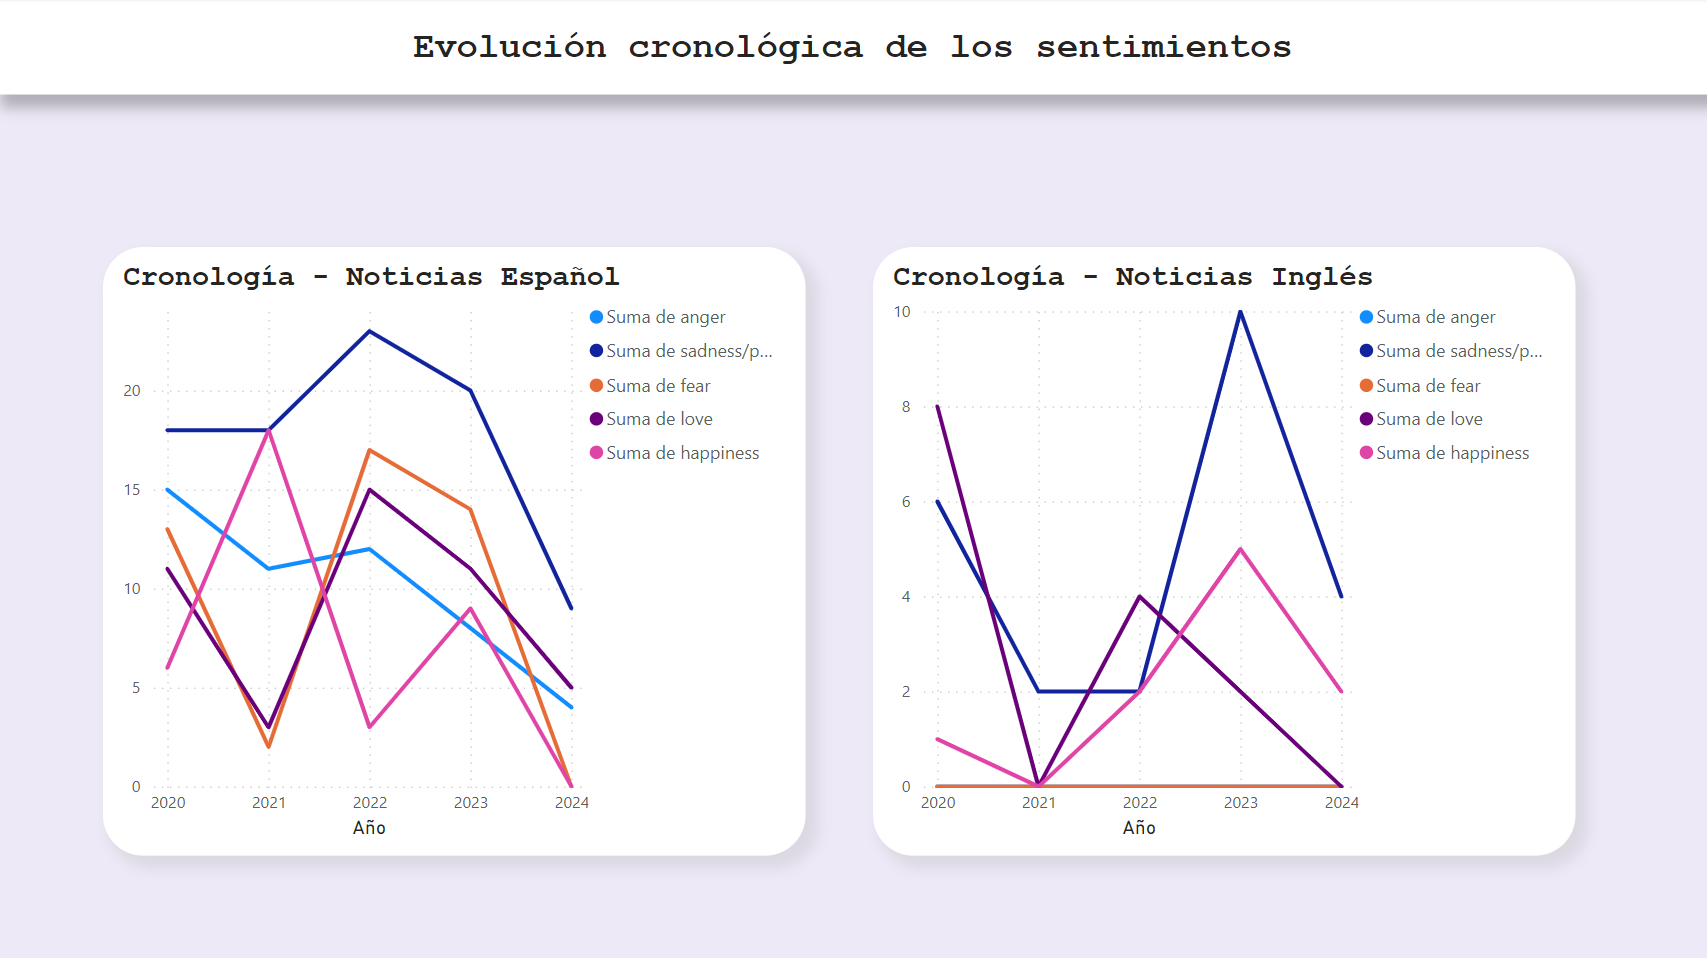

Layout of this report page (visuals, bound fields, positions):
{"tool":"powerbi","page":{"name":"Evolución tiempo","canvas":[1280,720],"ordinal":1},"visuals":[{"type":"lineChart","title":"Cronología - Noticias Español","fields":{"Category":["news.date.Variación.Jerarquía de fechas.Año","news.date.Variación.Jerarquía de fechas.Trimestre","news.date.Variación.Jerarquía de fechas.Mes","news.date.Variación.Jerarquía de fechas.Día"],"Y":["Sum(news.anger)","Sum(news.sadness/pain)","Sum(news.fear)","Sum(news.love)","Sum(news.happiness)"]},"box":[80.6,185.7,524.4,453.5],"z":0},{"type":"lineChart","title":"Cronología - Noticias Inglés","fields":{"Category":["news.date.Variación.Jerarquía de fechas.Año","news.date.Variación.Jerarquía de fechas.Trimestre","news.date.Variación.Jerarquía de fechas.Mes","news.date.Variación.Jerarquía de fechas.Día"],"Y":["Sum(news.anger)","Sum(news.sadness/pain)","Sum(news.fear)","Sum(news.love)","Sum(news.happiness)"]},"box":[654.9,185.7,524.4,453.5],"z":1000},{"type":"textbox","box":[0,0,1280,72.4],"z":1001}]}

Visuals, with their boxes in screenshot pixels (x1, y1, x2, y2), scaled from the page's 1280x720 canvas onto the 1707x958 screenshot:
"Cronología - Noticias Español" lineChart: {"left": 107, "top": 247, "right": 807, "bottom": 850}
"Cronología - Noticias Inglés" lineChart: {"left": 873, "top": 247, "right": 1573, "bottom": 850}
textbox: {"left": 0, "top": 0, "right": 1706, "bottom": 96}
